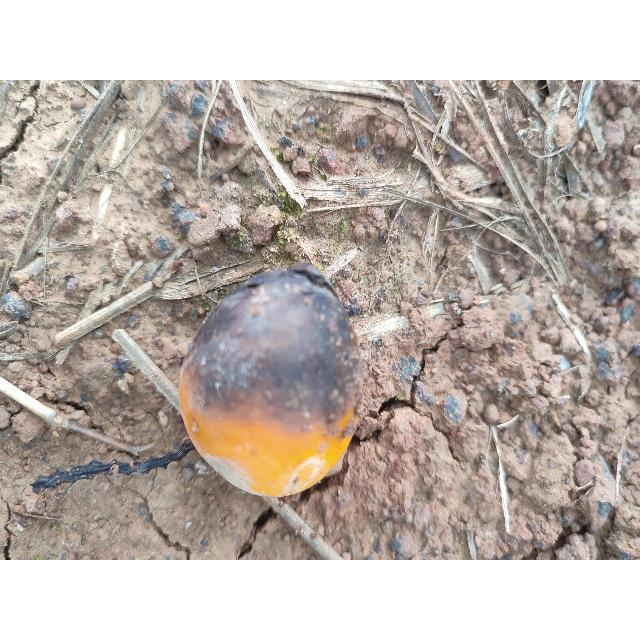damaged: (179, 263, 363, 497)
